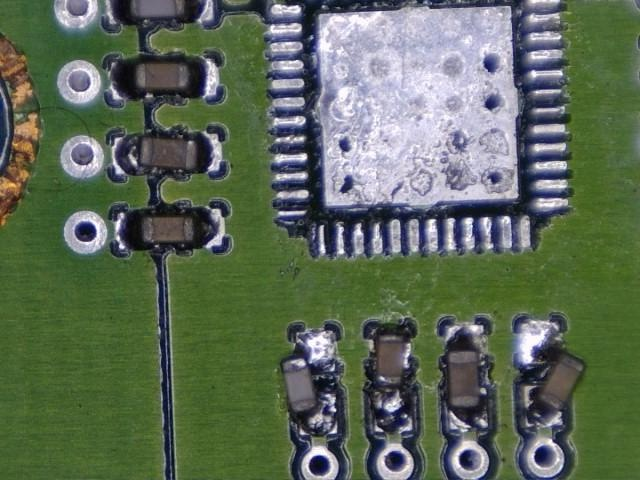pcb_defect: (519, 320, 585, 428), (281, 330, 338, 435), (371, 328, 415, 434)
